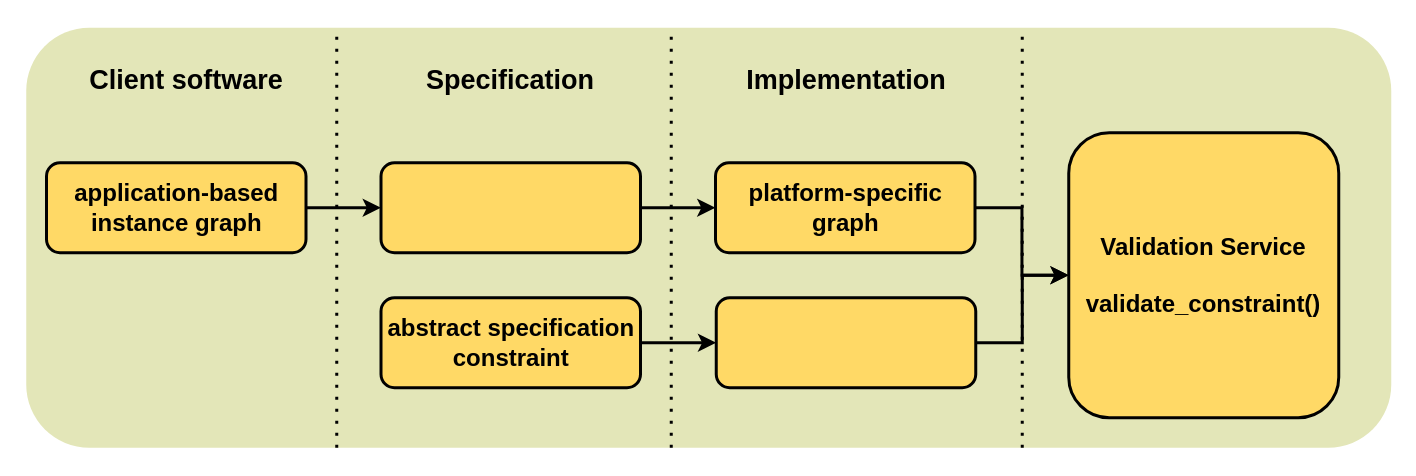
The diagram is 1416 pixels wide and 476 high, and some of its shapes have lost their labels. The shapes that lost their labels are listed below. From the top down, each one's centre as x and y in pixels, then its label:
the point at 510,207: abstract specification graph
the point at 845,342: platform-specific constraint
